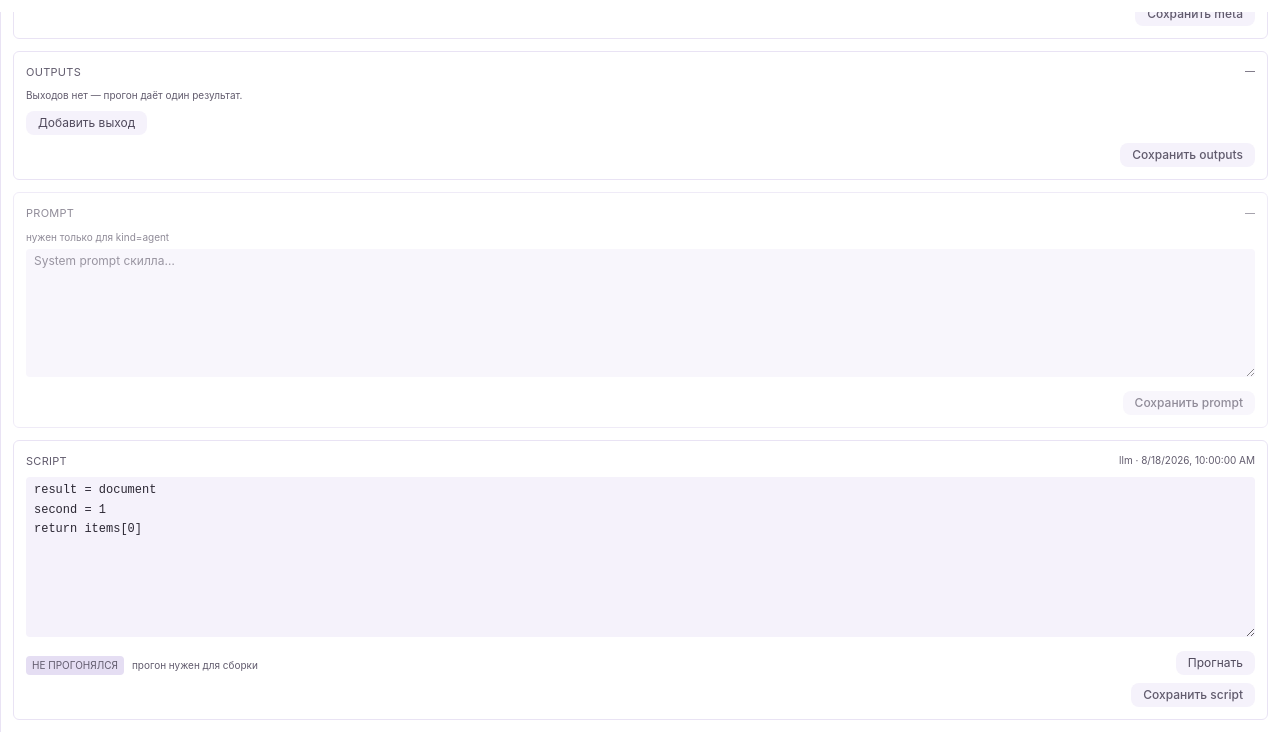
Scenario: ArtifactsPanel script dry-run › renders collapsed previews and verify after a successful run
(page scrolled)
Click the button "Прогнать" at (1215, 663), box [1176,651,1255,675]
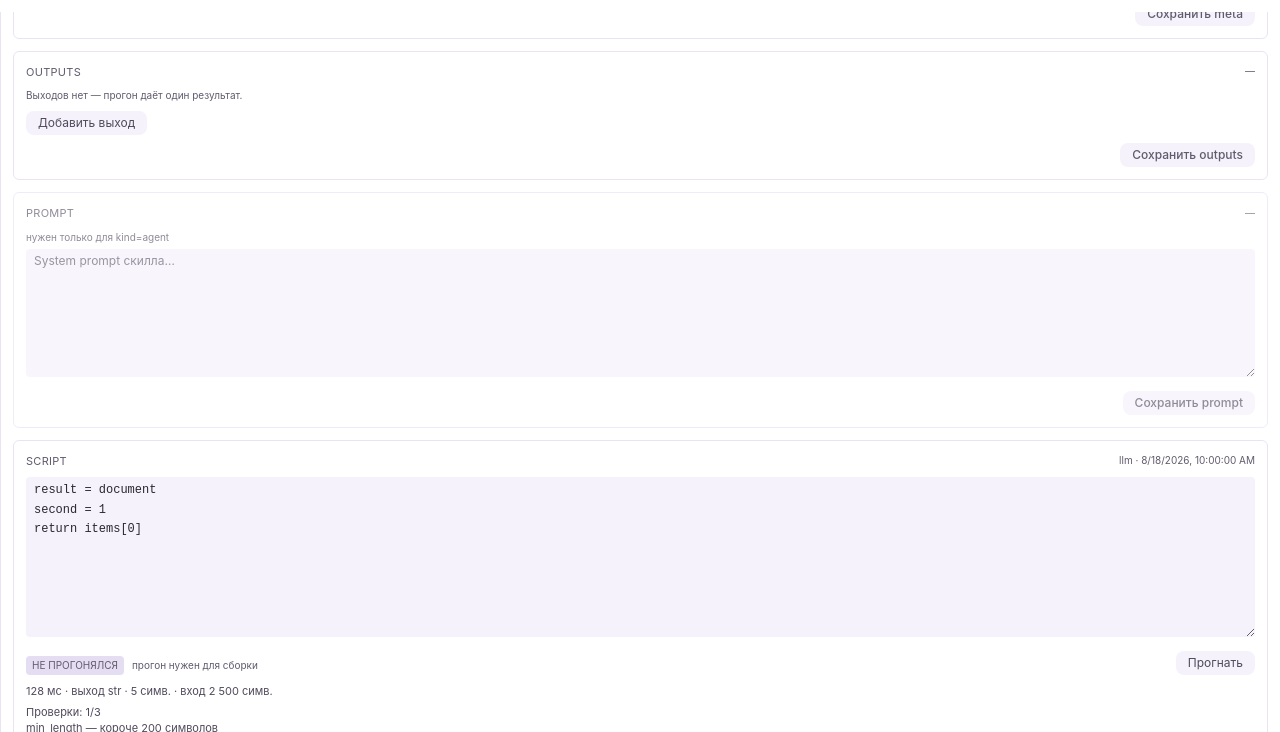
Expected: the text "Проверки: 1/3" is shown, [26,704,101,718]
Expected: the text "min_length — короче 200 символов" is shown, [26,721,218,731]
